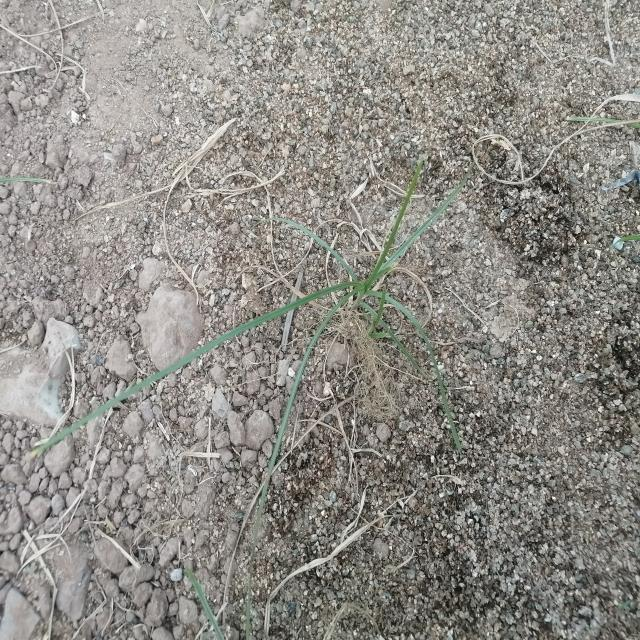sedge: (114, 141, 495, 463)
